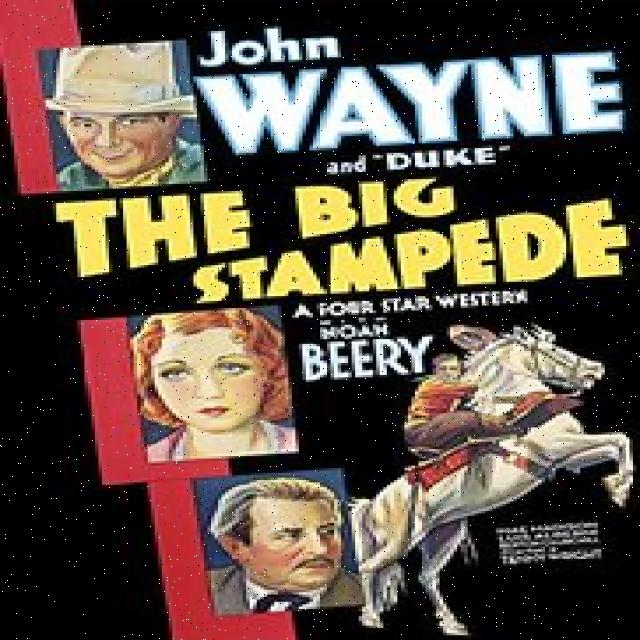movie-judul: (24, 179, 640, 303)
picture: (112, 309, 640, 636), (43, 50, 205, 176)
